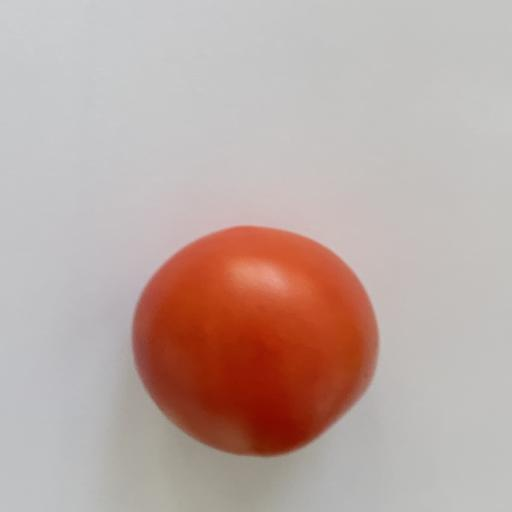ripe: (133, 227, 378, 455)
